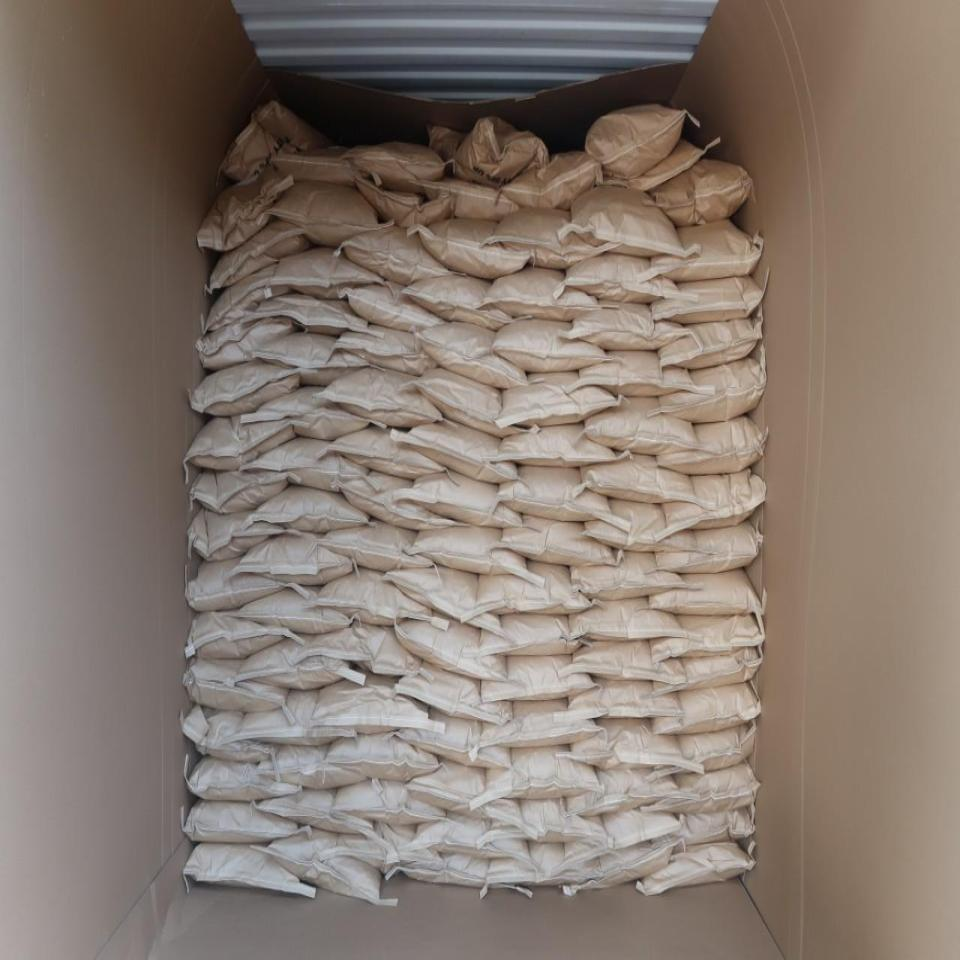bag: (406, 761, 537, 835), (220, 104, 336, 180), (388, 564, 505, 639), (482, 207, 616, 271), (569, 184, 685, 257), (391, 418, 519, 484), (412, 368, 531, 437), (265, 829, 380, 900), (427, 119, 546, 187), (270, 179, 389, 246), (197, 167, 294, 249), (311, 670, 431, 735), (208, 219, 313, 293), (386, 708, 511, 770), (395, 612, 507, 681), (586, 106, 688, 180), (416, 322, 528, 389), (403, 814, 538, 869), (393, 665, 513, 726), (414, 218, 534, 279), (475, 558, 595, 619), (657, 358, 766, 424), (651, 220, 763, 284), (403, 469, 522, 529), (495, 372, 619, 428), (498, 465, 615, 524), (243, 385, 370, 439), (233, 690, 355, 746), (661, 469, 766, 534), (187, 844, 319, 895), (585, 398, 701, 456), (564, 811, 684, 867), (320, 369, 442, 424), (567, 718, 693, 771), (650, 161, 752, 226), (253, 334, 378, 387), (343, 227, 457, 285), (580, 450, 698, 506), (572, 552, 702, 602), (640, 761, 758, 816), (480, 267, 598, 322), (655, 415, 763, 475), (244, 440, 370, 491), (342, 474, 458, 529), (315, 570, 435, 623), (410, 526, 530, 579), (296, 625, 423, 675), (493, 319, 610, 373), (236, 634, 350, 689), (565, 300, 685, 352), (566, 840, 679, 895), (484, 747, 599, 801), (585, 498, 700, 552), (185, 414, 297, 469), (269, 245, 385, 298), (563, 769, 690, 817), (651, 720, 756, 778), (188, 359, 300, 413), (488, 799, 613, 847), (185, 657, 292, 713), (499, 151, 602, 209), (327, 427, 444, 478), (232, 585, 351, 635), (564, 255, 680, 306), (405, 274, 512, 329), (501, 515, 616, 566), (205, 262, 292, 329), (641, 844, 755, 895), (649, 569, 763, 620), (236, 534, 352, 584), (319, 824, 442, 871), (572, 351, 692, 399), (554, 676, 684, 720), (559, 642, 686, 687), (477, 700, 601, 746), (183, 704, 281, 762), (652, 683, 761, 735), (258, 787, 373, 836), (248, 487, 370, 533), (567, 597, 691, 642), (318, 525, 434, 573), (186, 558, 293, 610), (655, 519, 759, 572), (327, 735, 440, 783), (239, 293, 367, 335), (183, 800, 307, 843), (652, 647, 763, 695), (336, 325, 441, 375), (600, 140, 705, 190), (486, 841, 601, 886), (649, 615, 764, 660), (652, 278, 761, 325), (480, 656, 592, 701), (498, 424, 618, 466), (198, 318, 298, 368), (187, 509, 285, 560), (659, 319, 757, 370), (332, 779, 445, 823), (358, 180, 456, 230), (347, 143, 443, 193), (188, 758, 300, 800), (347, 284, 449, 330), (255, 747, 368, 788), (421, 174, 519, 221), (481, 614, 585, 658), (187, 614, 288, 659), (192, 469, 288, 513), (405, 853, 515, 890), (658, 806, 753, 846), (269, 146, 366, 184)
